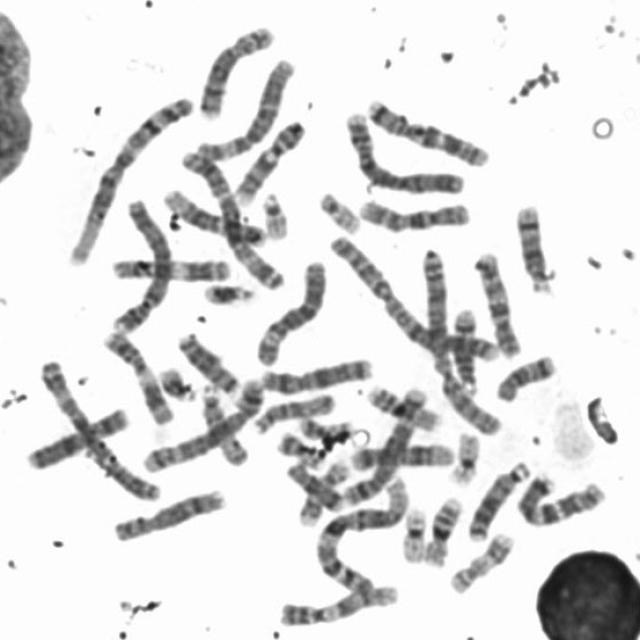A1: (61, 89, 198, 267), (309, 467, 412, 599)
A2: (323, 228, 502, 368), (413, 242, 505, 439)
A3: (31, 352, 162, 502), (174, 144, 289, 291)
B4: (338, 105, 466, 196), (104, 194, 173, 336)
B5: (138, 369, 265, 473), (339, 380, 433, 509)
C10: (469, 246, 523, 360), (352, 191, 474, 234)
C11: (96, 324, 176, 427), (108, 250, 236, 284)
C12: (156, 180, 272, 247), (345, 436, 459, 472)
C6: (191, 52, 299, 162), (251, 254, 331, 368)
C7: (359, 91, 494, 170), (512, 468, 608, 528)
C8: (194, 18, 279, 121), (107, 482, 229, 545)
C9: (228, 114, 308, 205), (272, 578, 403, 630)
D13: (463, 455, 533, 542), (172, 326, 243, 398)
D14: (510, 197, 558, 296), (447, 301, 481, 396)
D15: (196, 380, 251, 468), (247, 386, 339, 436)
E16: (360, 379, 444, 433), (419, 490, 465, 568)
E17: (444, 525, 518, 596), (293, 454, 353, 528)
E18: (490, 348, 560, 405), (284, 456, 350, 516)
F19: (442, 425, 483, 488), (396, 501, 429, 564)
F20: (273, 426, 325, 471), (295, 413, 358, 441)
G21: (154, 359, 199, 404), (198, 276, 258, 307)
G22: (314, 186, 364, 236), (257, 186, 292, 241)
X: (20, 401, 130, 472), (256, 352, 375, 394)
